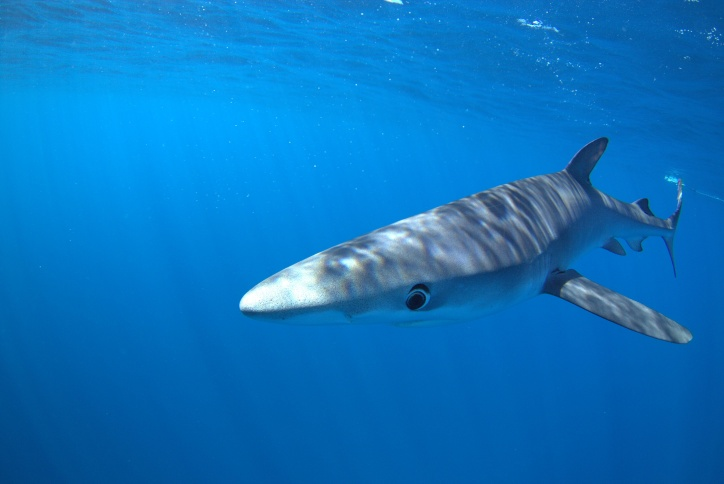Azul: (209, 111, 724, 348)
